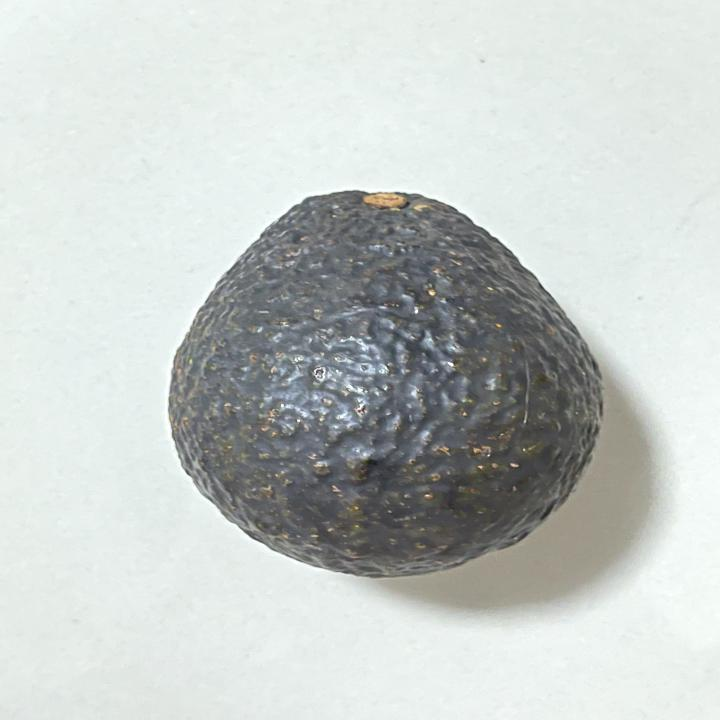Level1: (149, 177, 615, 592)
